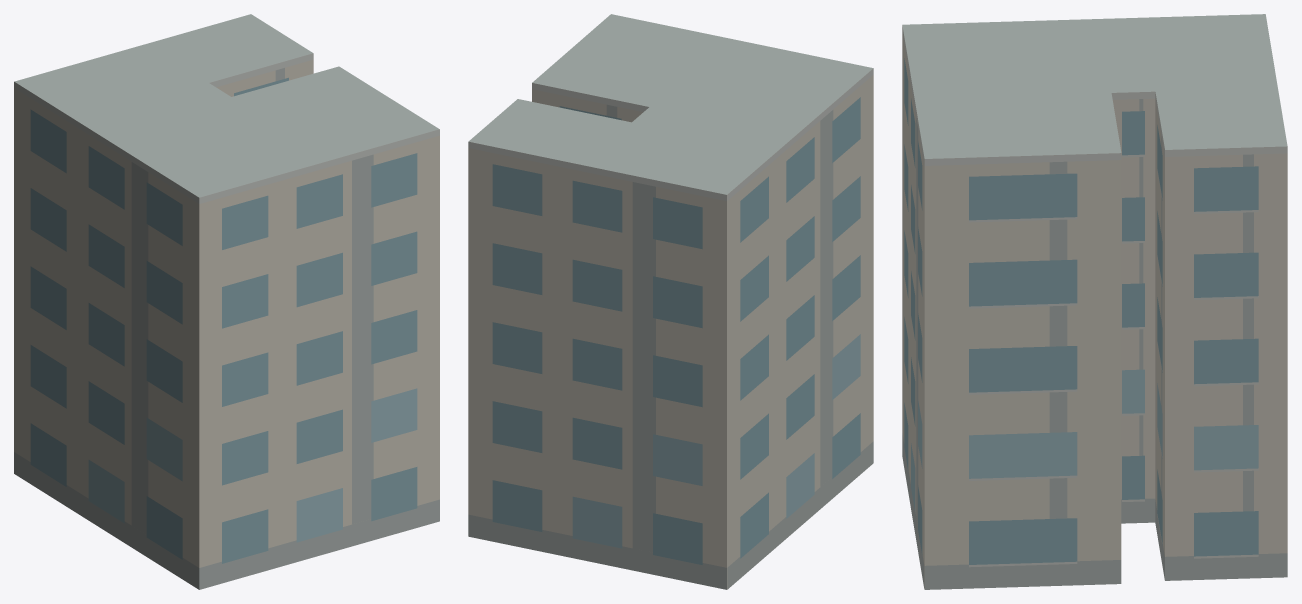
The model's file is survey-upis-32495450.glb.
3 views of the same model, side by side, from view 1: azimuth 30°, elevation 25°; view 2: azimuth 150°, elevation 25°; view 3: azimuth 270°, elevation 25° (orthographic). The views are drawn at different scales.
Visible parts, largest first — view 1: survey-upis-32495450.tmp; view 2: survey-upis-32495450.tmp; view 3: survey-upis-32495450.tmp.
Boxes of the visible parts, x1,y1,x2,y2 form: survey-upis-32495450.tmp: (14, 14, 439, 589); survey-upis-32495450.tmp: (468, 14, 873, 589); survey-upis-32495450.tmp: (902, 14, 1287, 589).
Bounding box in the file's own units: 10.84 × 15 × 12.17.
